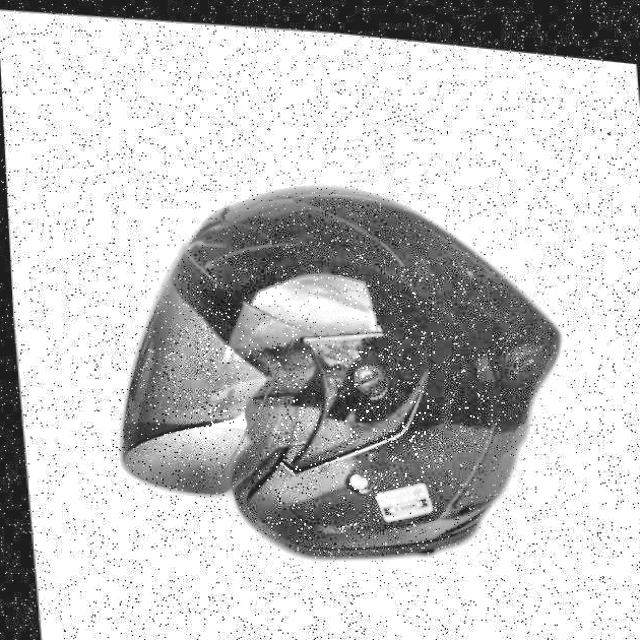Helmet: (83, 140, 586, 591)
